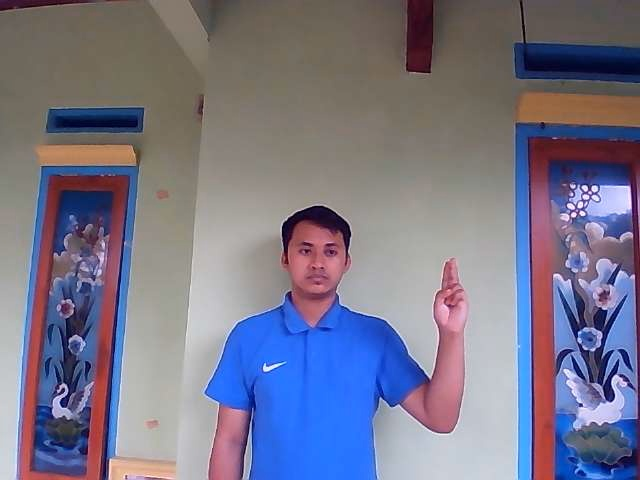U: (432, 257, 470, 331)
